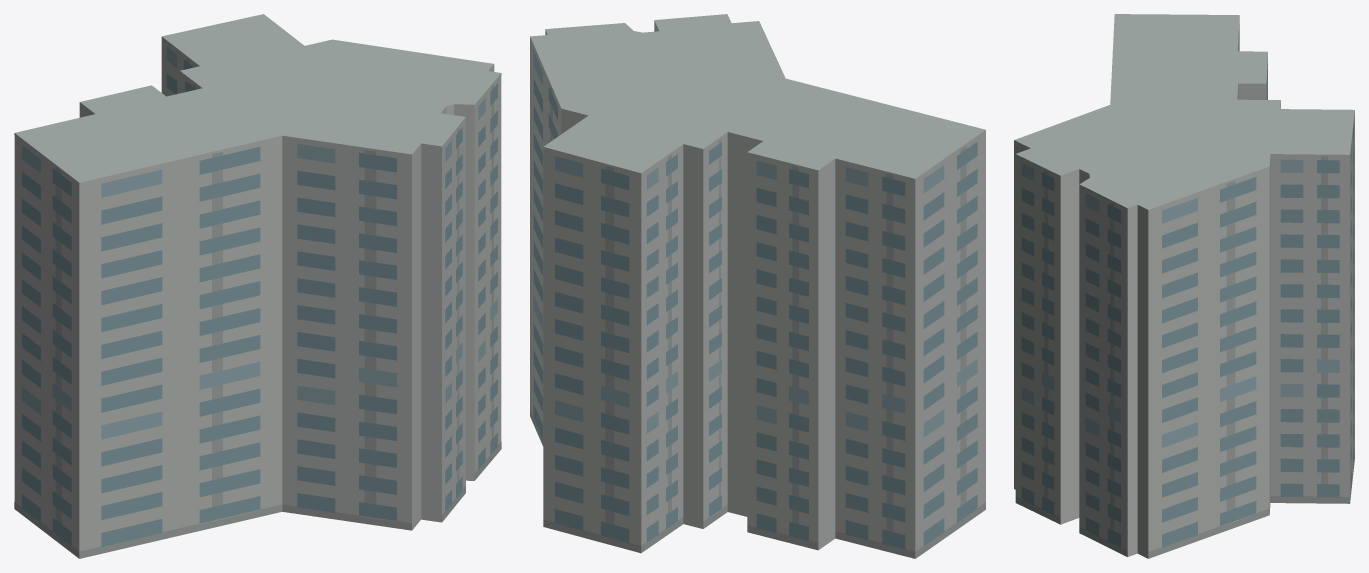
File: residential-cd1202a2-a2df-45c3-b953-5b56c07fde5c.glb
3 renders of one model, left to right at view 1: azimuth 30°, elevation 25°; view 2: azimuth 150°, elevation 25°; view 3: azimuth 270°, elevation 25°, orthographic. The views are drawn at different scales.
Visible parts, largest first — view 1: residential-cd1202a2-a2df-45c3-b953-5b56c07fde5c.tmp; view 2: residential-cd1202a2-a2df-45c3-b953-5b56c07fde5c.tmp; view 3: residential-cd1202a2-a2df-45c3-b953-5b56c07fde5c.tmp.
Part boxes in pixels (left/top/right/bottom): residential-cd1202a2-a2df-45c3-b953-5b56c07fde5c.tmp: left=14, top=14, right=501, bottom=558; residential-cd1202a2-a2df-45c3-b953-5b56c07fde5c.tmp: left=530, top=14, right=985, bottom=558; residential-cd1202a2-a2df-45c3-b953-5b56c07fde5c.tmp: left=1014, top=14, right=1354, bottom=558.
Bounding box in the file's own units: 48.19 × 40 × 35.41.
